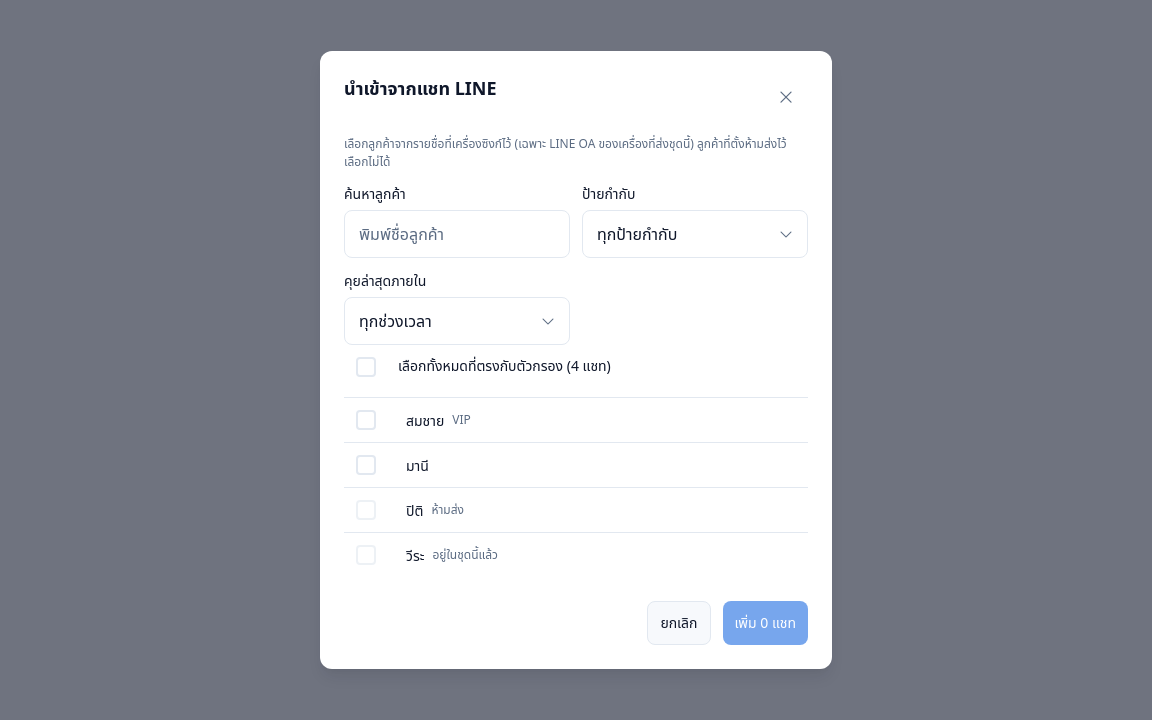
Test: ImportLineChatsModalComponent › shows the reason inline when the server refuses, and stays open to try again
Click the checkbox named "สมชาย".
click(366, 420)  # box [344,398,388,442]
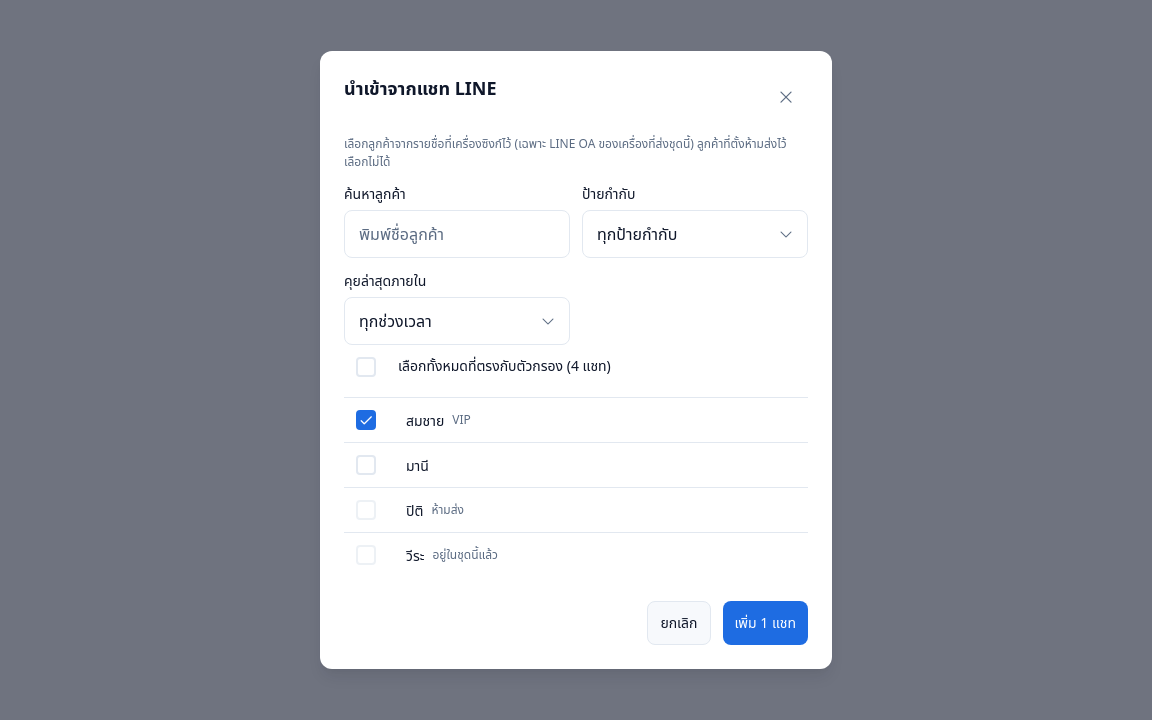
Click the button with class "su-btn-primary".
click(765, 623)  # box [722,601,808,645]
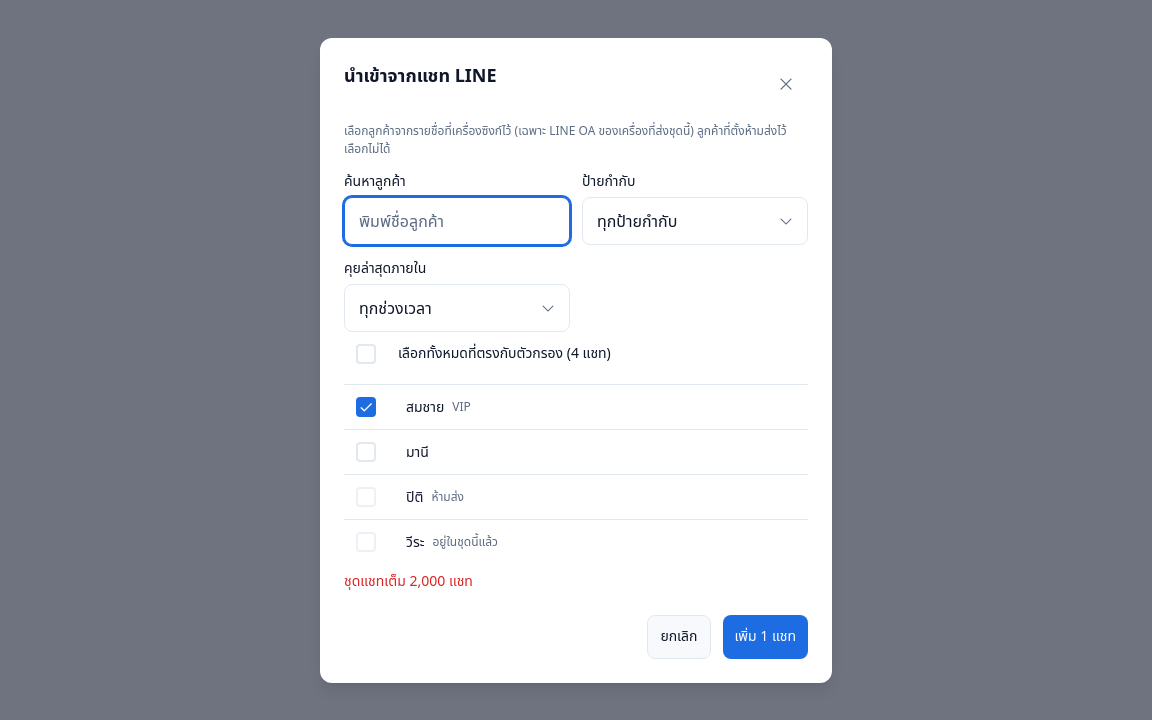
Expected: the button with class "su-btn-primary" is enabled, [722,614,808,658]
Expected: the message with class "su-field-err" reads "ชุดแชทเต็ม 2,000 แชท", [344,570,473,590]
